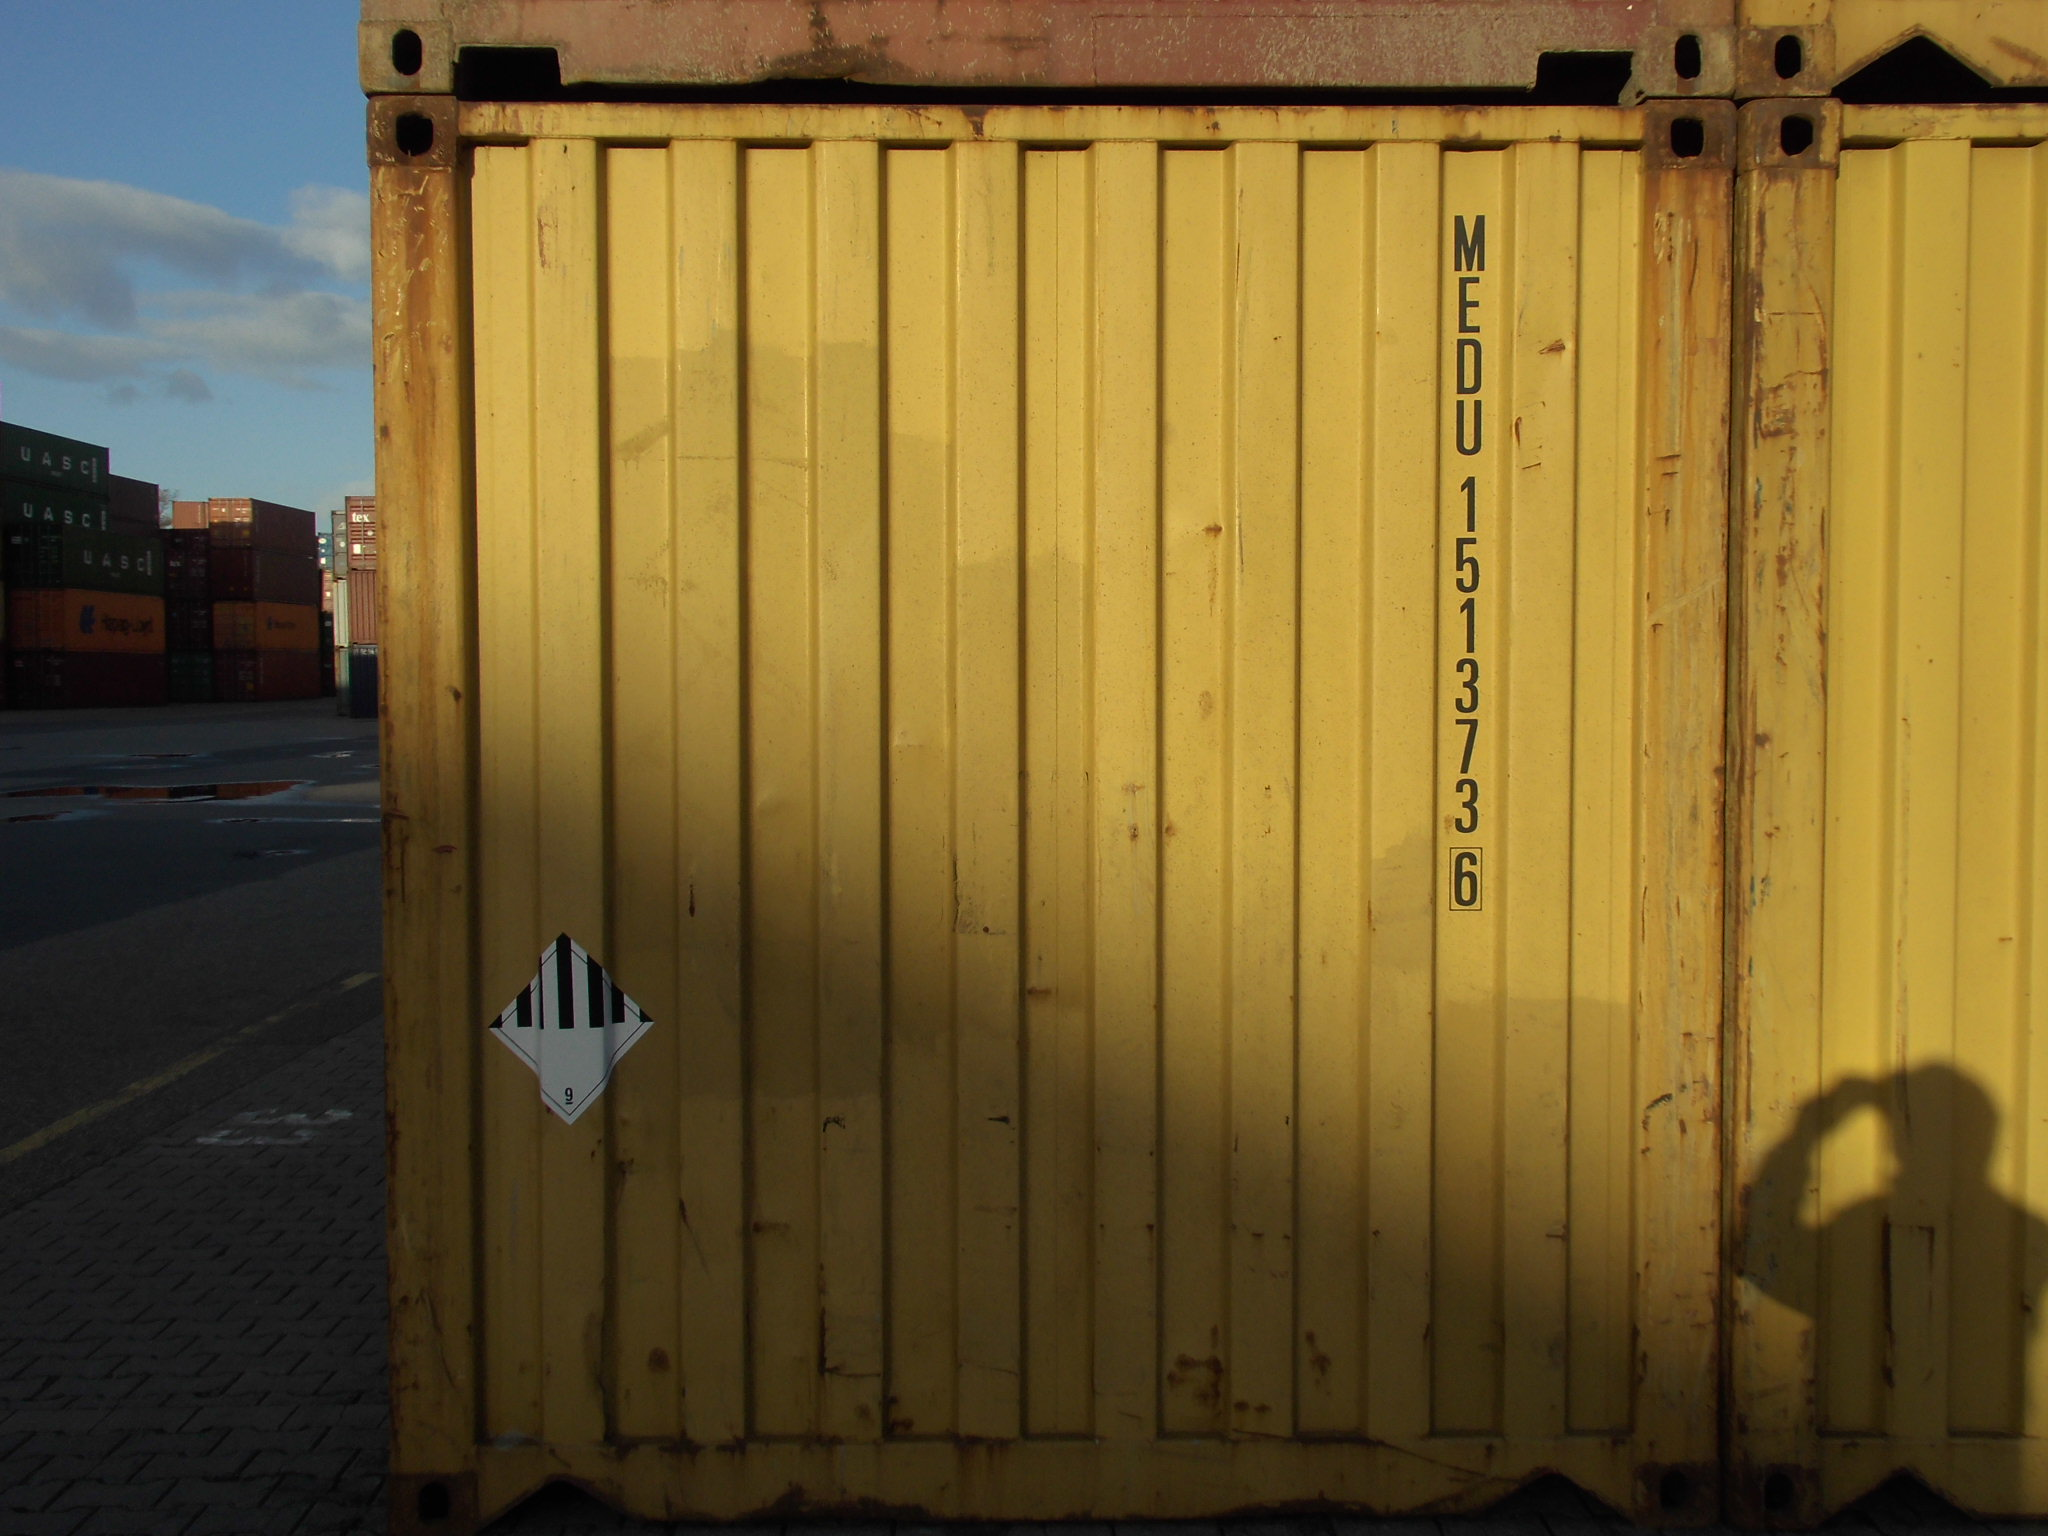container_no_door: (353, 90, 1746, 1534)
